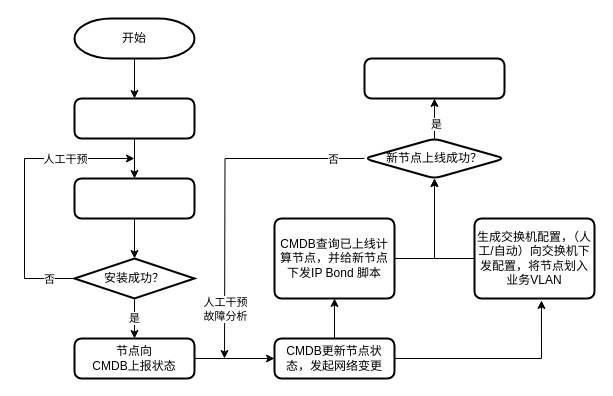
Some shapes in this 613 by 396 pixel diagram are drawn without their labels. Each missing label, with the centre of its shape:
"CMDB更新节点状态 管理员Kolla-ansible部署" belongs at [434,78].
"PXE 装机" belongs at [134,198].
"节点上架， 接入PXE网络" belongs at [134,118].
